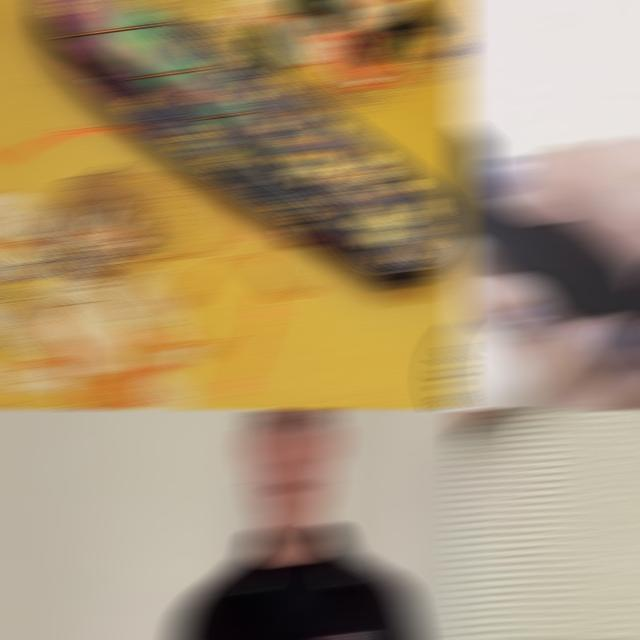Knife: (453, 124, 640, 340)
